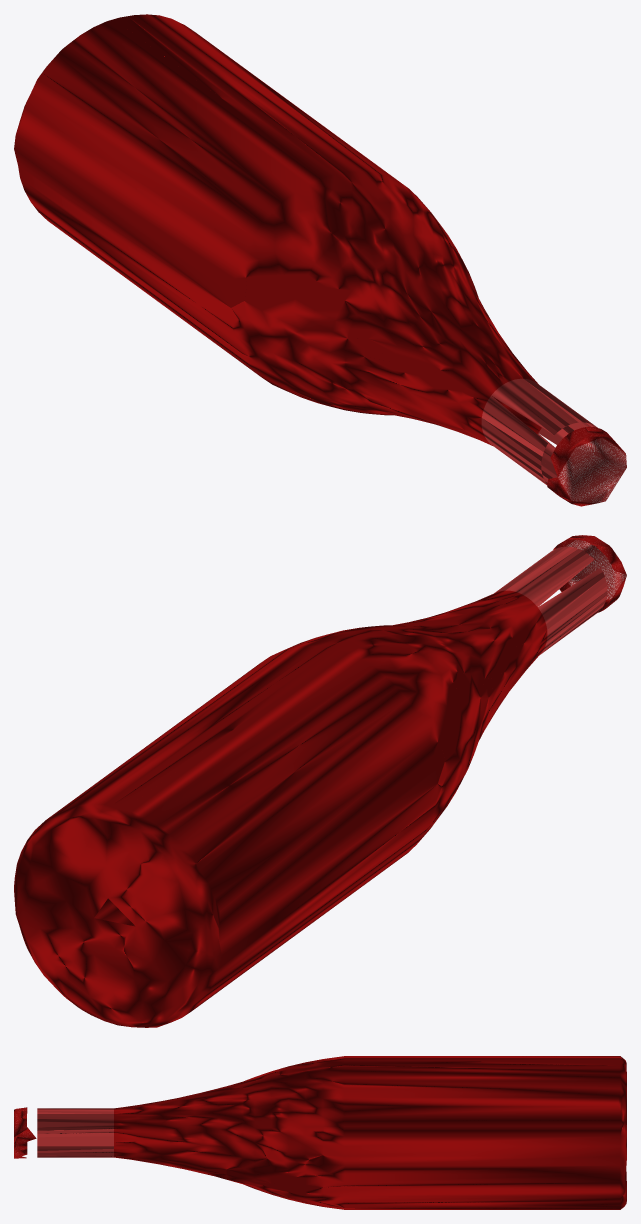
Rendered from model_align.obj.
The picture shows the model from 3 angles, top to bottom: view 1: azimuth 30°, elevation 25°; view 2: azimuth 150°, elevation 25°; view 3: azimuth 270°, elevation 25°; orthographic projection. The views are drawn at different scales.
Bounding box in the file's own units: 0.07 × 0.07 × 0.2789.
